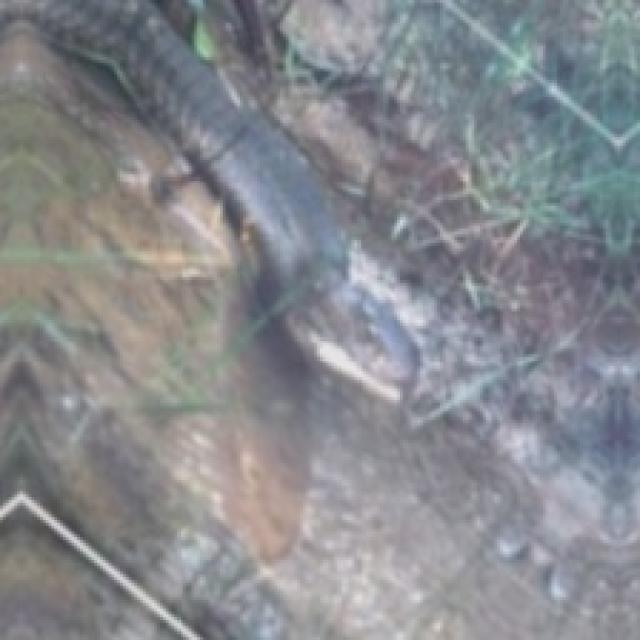king cobra: (0, 14, 329, 637), (0, 0, 414, 383), (0, 514, 171, 637)
